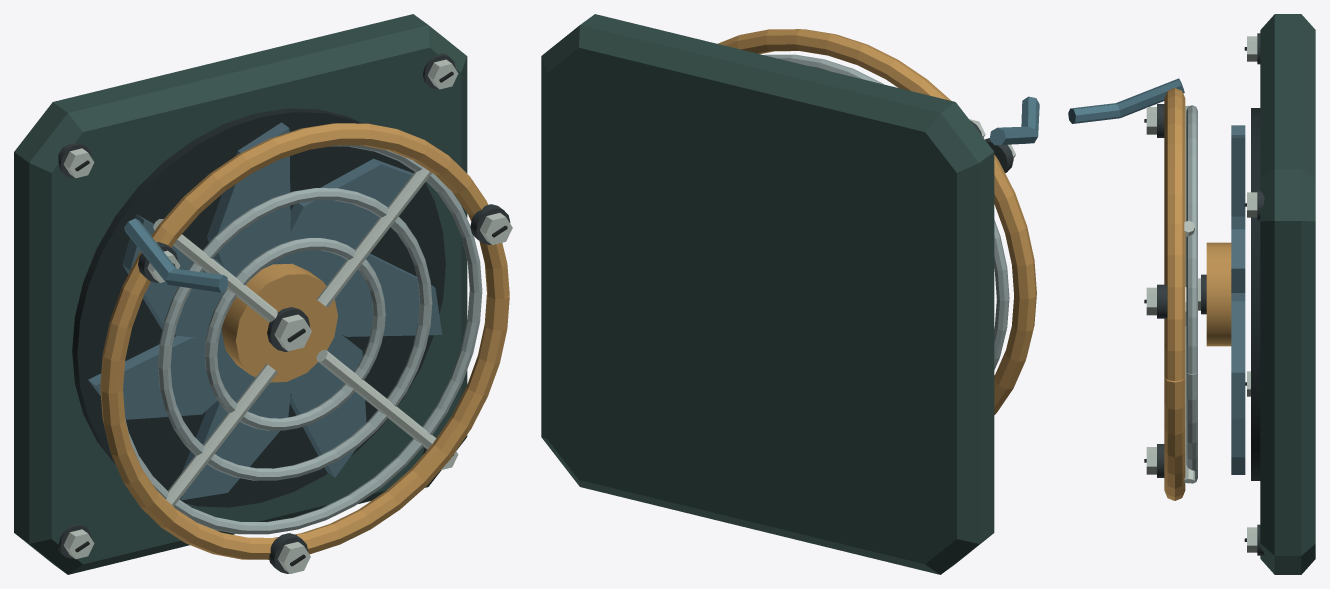
The model's file is scrubber-repaired.glb.
The picture shows the model from 3 angles, left to right: view 1: azimuth 30°, elevation 25°; view 2: azimuth 150°, elevation 25°; view 3: azimuth 270°, elevation 25°; orthographic projection. The views are drawn at different scales.
Parts seen in each view (by area): view 1: RB_scrubber_repaired; view 2: RB_scrubber_repaired; view 3: RB_scrubber_repaired.
Part boxes in pixels (bbox=[...]): RB_scrubber_repaired: bbox=[14, 14, 512, 574]; RB_scrubber_repaired: bbox=[541, 14, 1039, 574]; RB_scrubber_repaired: bbox=[1068, 14, 1315, 574].
Bounding box in the file's own units: 0.385 × 0.388 × 0.2144.
